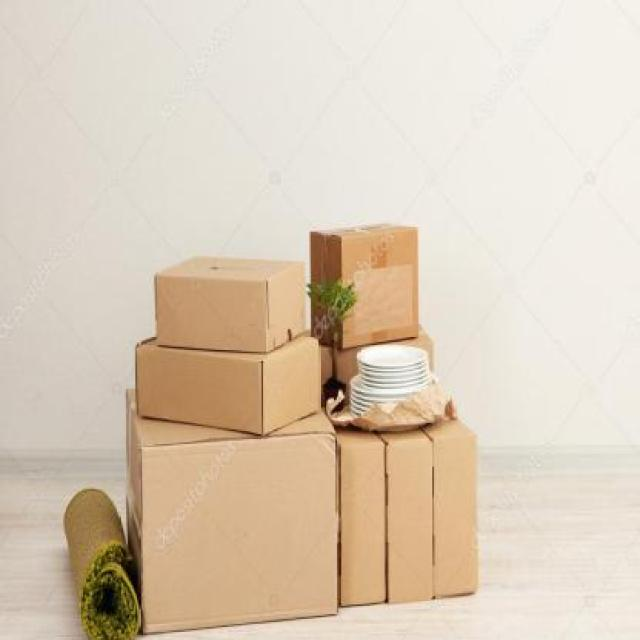box: (98, 392, 340, 640), (333, 378, 498, 638), (118, 328, 327, 450), (310, 212, 432, 362), (147, 245, 304, 358)
